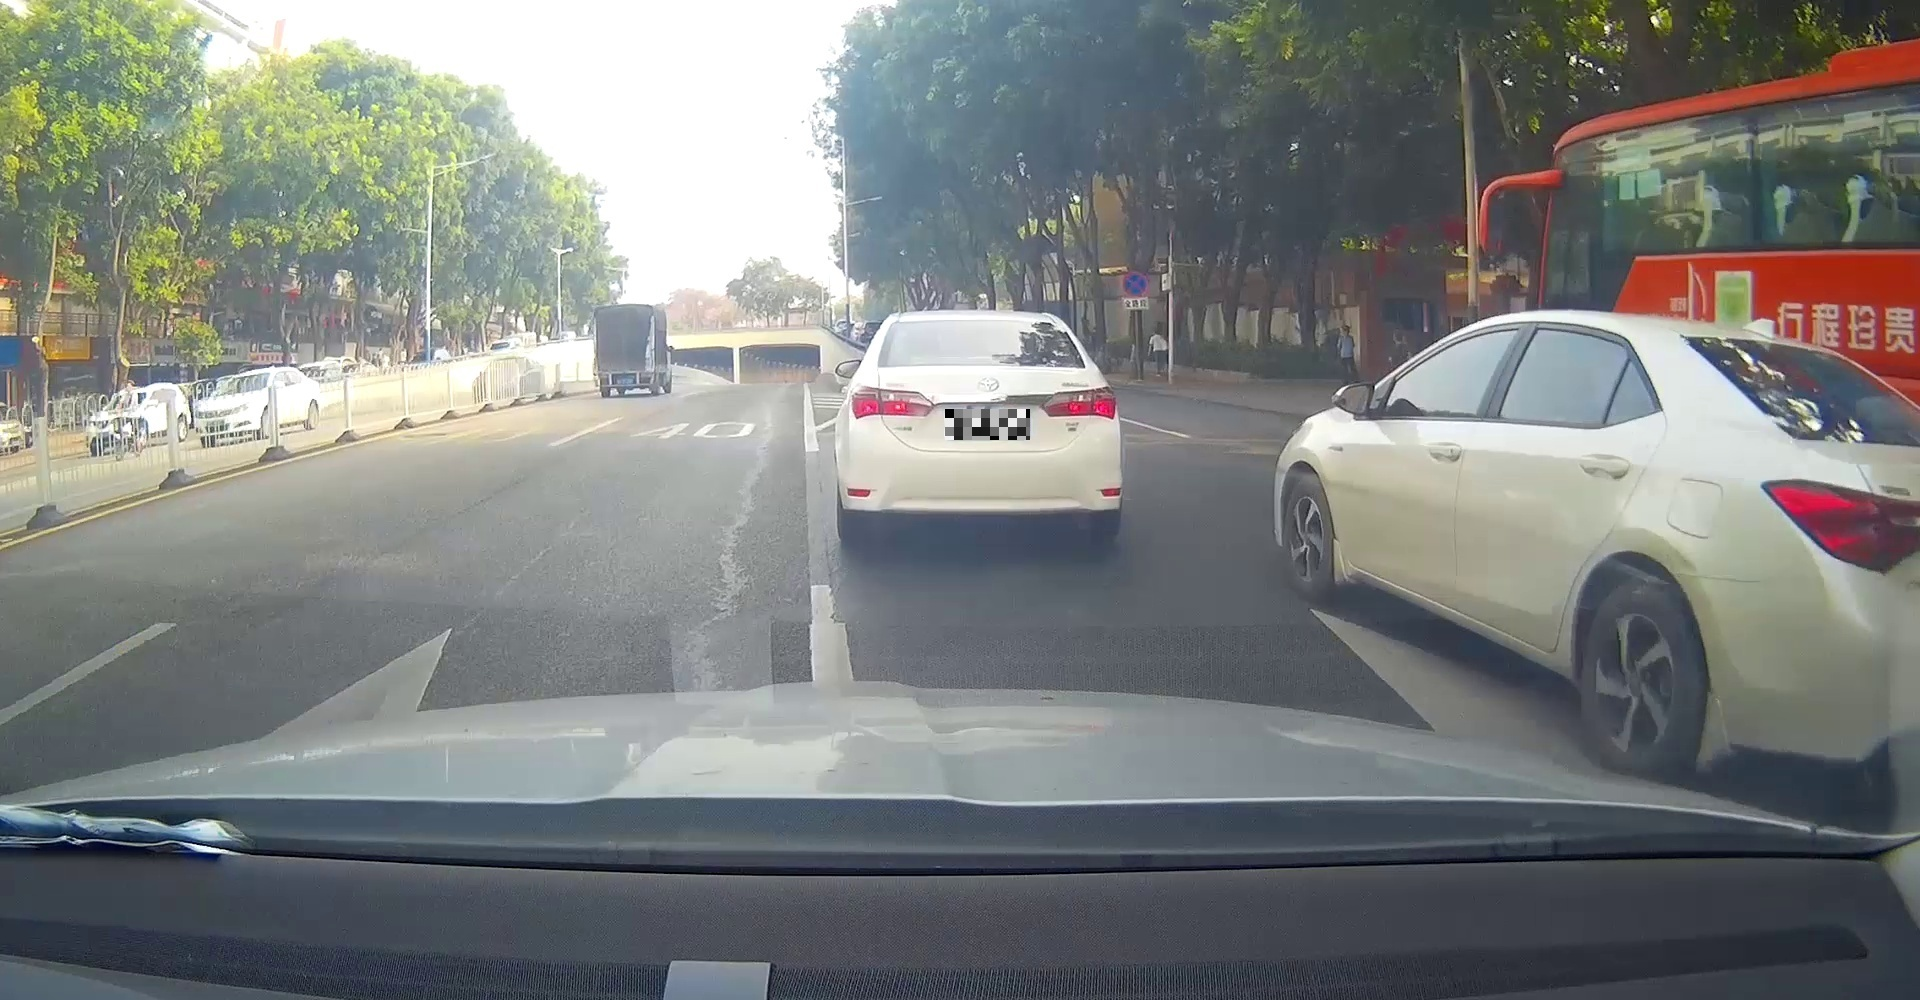L_light: (850, 383, 935, 419), (597, 379, 608, 385)
R_light: (1037, 386, 1117, 420), (639, 378, 651, 385)
T_light: (965, 357, 1018, 365), (617, 367, 631, 372)
day-no: (833, 308, 1123, 539), (592, 303, 657, 398)
plate_1: (945, 409, 1030, 440)
